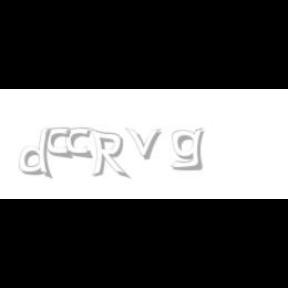R: (90, 128, 128, 180)
c: (46, 128, 74, 160), (66, 128, 94, 160)
d: (20, 128, 56, 180)
g: (170, 128, 208, 171)
v: (125, 128, 165, 160)
